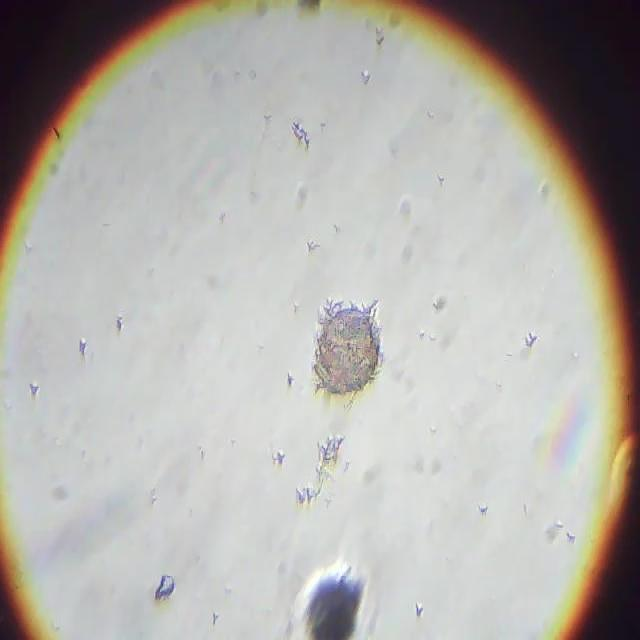alexandrium: (296, 298, 398, 399)
alexandrium minutum: (301, 552, 373, 640)
